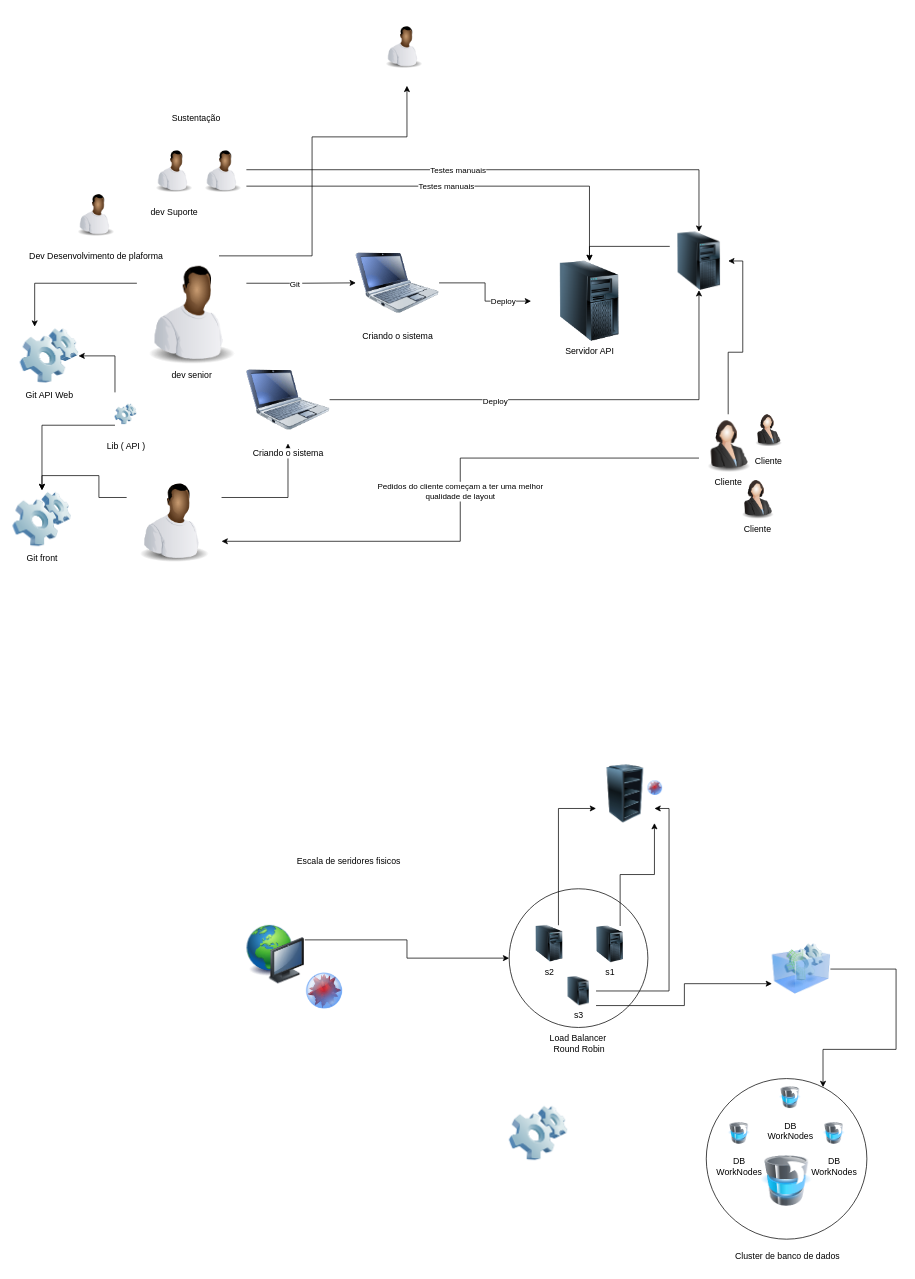
The diagram is 915 pixels wide and 1279 high, and some of its shapes have lost their labels. Each missing label, with the centre of its shape:
CDN Server: (x=625, y=793)
Contratar profissionais ou empresa de segurança: (x=403, y=45)
DB Main: (x=786, y=1180)
dev Front-end senior UX UI: (x=173, y=519)
FILA: (x=538, y=1133)
QA: (x=222, y=169)
Redis Busca informação na RAM: (x=801, y=969)
Servidor Front: (x=698, y=260)
Upload: (x=324, y=990)
